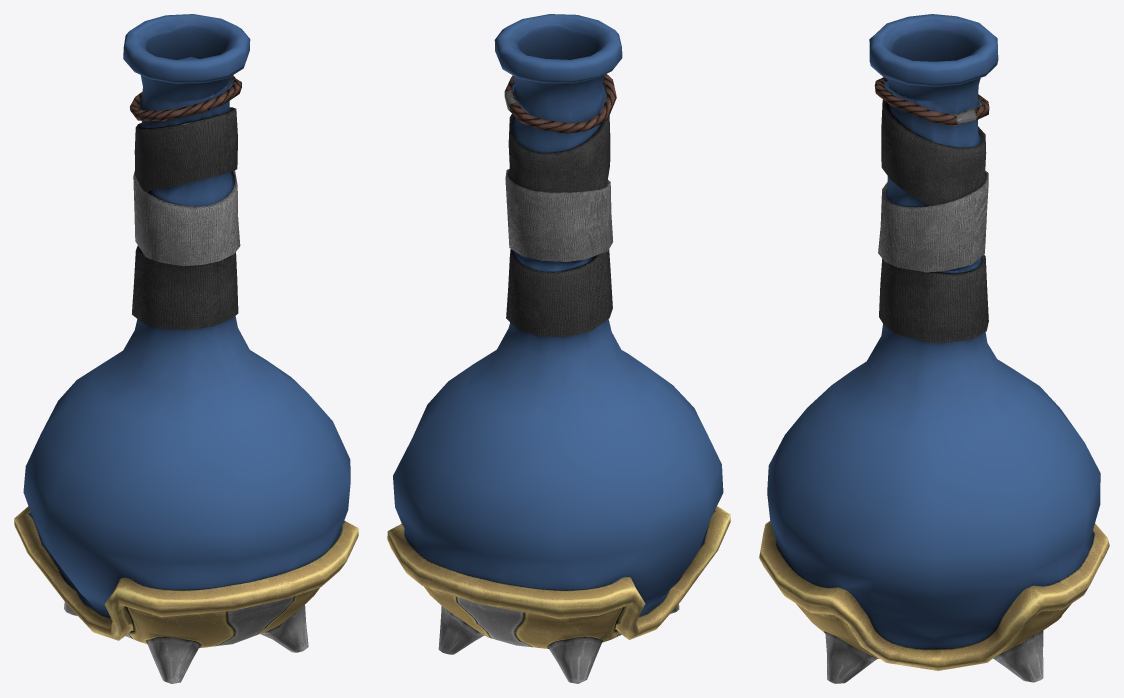
File: Potion.fbx
3 views of the same model, side by side, from view 1: azimuth 30°, elevation 25°; view 2: azimuth 150°, elevation 25°; view 3: azimuth 270°, elevation 25° (orthographic). The views are drawn at different scales.
Parts seen in each view (by area): view 1: bottle.002; view 2: bottle.002; view 3: bottle.002.
Part boxes in pixels (box(x1,y1,x2,y2)): bottle.002: box(14, 14, 358, 683); bottle.002: box(387, 14, 730, 683); bottle.002: box(759, 14, 1109, 683).
Bounding box in the file's own units: 31.15 × 61.35 × 31.91.
